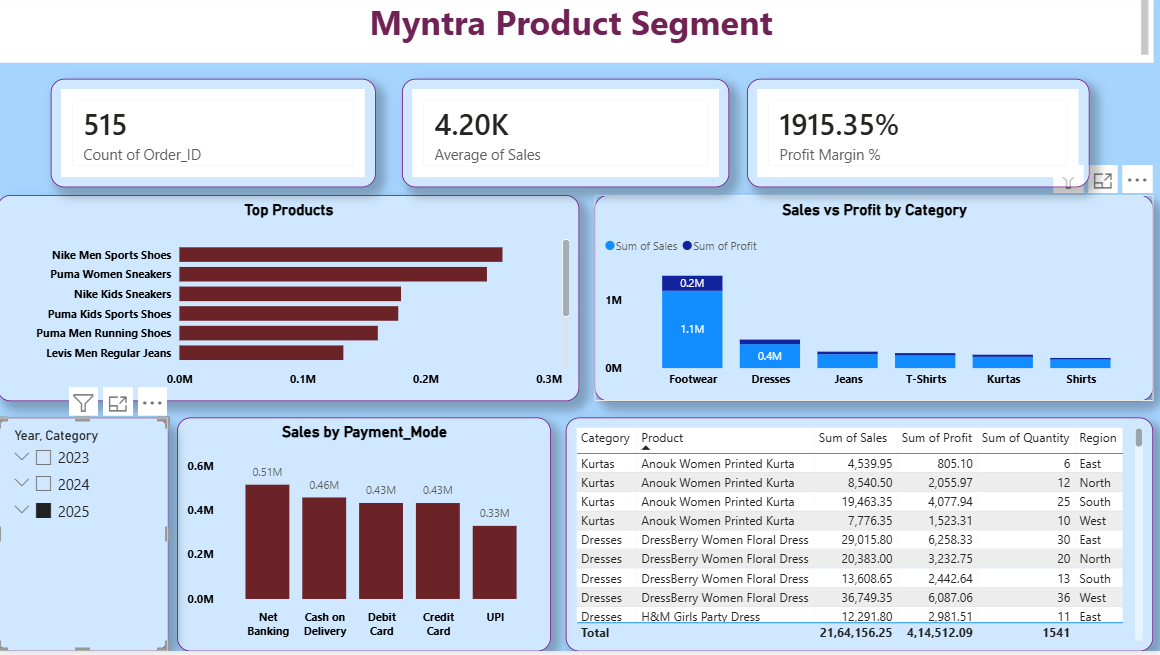

The dashboard page shown, as its layout file describes it:
{"tool":"powerbi","page":{"name":"product and customer analysis","canvas":[1280,720],"ordinal":1},"visuals":[{"type":"barChart","title":"Top Products","fields":{"Category":["sales_myn.Product"],"Y":["Sum(sales_myn.Sales)"]},"box":[0,219.6,639.5,226.4],"z":0},{"type":"columnChart","title":"Sales vs Profit by Category","fields":{"Category":["sales_myn.Category"],"Y":["Sum(sales_myn.Sales)","Sum(sales_myn.Profit)"]},"box":[655.9,219.6,613.4,226.4],"z":1000},{"type":"columnChart","title":" Sales by Payment_Mode","fields":{"Category":["sales_myn.Payment_Mode"],"Y":["Sum(sales_myn.Sales)"]},"box":[197.6,463.8,410.3,256.6],"z":2000},{"type":"tableEx","fields":{"Values":["sales_myn.Category","sales_myn.Product","Sum(sales_myn.Sales)","Sum(sales_myn.Profit)","Sum(sales_myn.Quantity)","sales_myn.Region"]},"box":[624.4,463.8,644.9,256.6],"z":3000},{"type":"slicer","fields":{"Values":["sales_myn.Year","sales_myn.Category"]},"box":[0,463.8,188,256.6],"z":4000},{"type":"cardVisual","title":"Total Orders","fields":{"Data":["Count(sales_myn.Order_ID)"]},"box":[59,91.9,356.8,119.4],"z":5000},{"type":"cardVisual","title":"Average Order Value","fields":{"Data":["Avg(sales_myn.Sales)"]},"box":[444.6,91.9,359.5,119.4],"z":6000},{"type":"cardVisual","title":"Profit Margin","fields":{"Data":["sales_myn.Profit Margin %"]},"box":[823.3,91.9,376,119.4],"z":7000},{"type":"textbox","box":[0,0,1269.3,74.1],"z":8000}]}

Visuals, with their boxes in screenshot pixels (x1, y1, x2, y2), scaled from the page's 1280x720 canvas onto the 1160x655 screenshot:
"Top Products" barChart: 0,200,580,406
"Sales vs Profit by Category" columnChart: 594,200,1150,406
" Sales by Payment_Mode" columnChart: 179,422,551,654
tableEx - sales_myn.Category x sales_myn.Product: 566,422,1150,654
slicer - sales_myn.Year x sales_myn.Category: 0,422,170,654
"Total Orders" cardVisual: 53,84,377,192
"Average Order Value" cardVisual: 403,84,729,192
"Profit Margin" cardVisual: 746,84,1087,192
textbox: 0,0,1150,67
